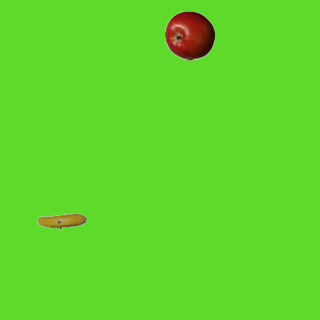Apple Braeburn: (164, 10, 214, 60)
Banana: (36, 196, 86, 246)
